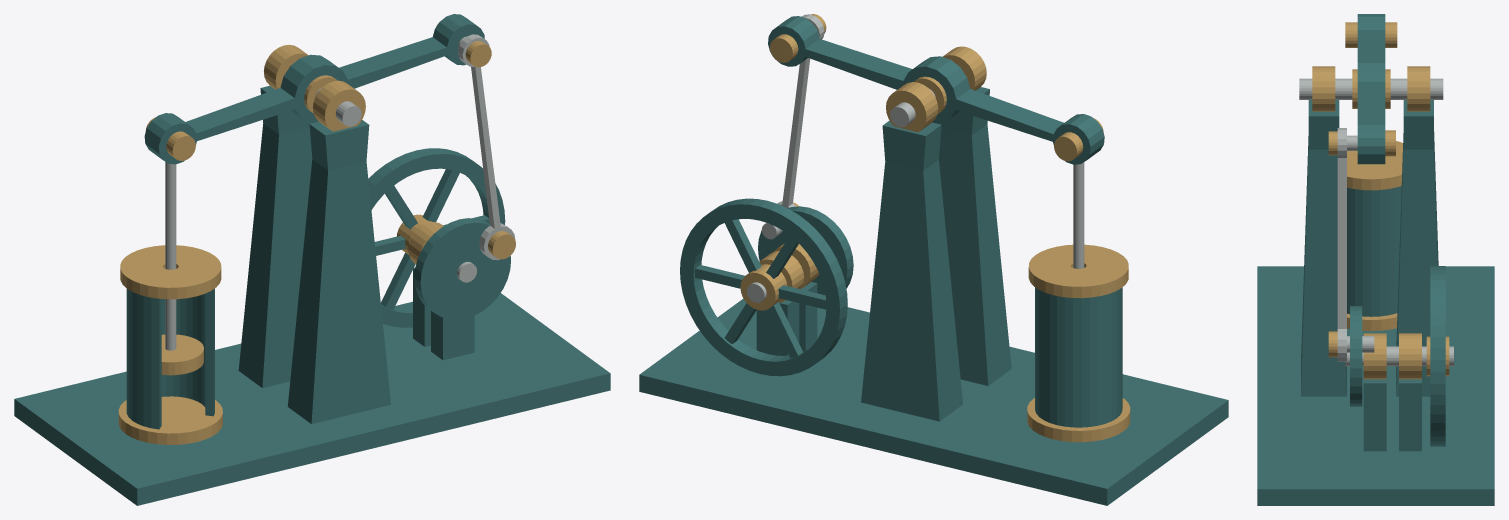
3 renders of one model, left to right at view 1: azimuth 30°, elevation 25°; view 2: azimuth 150°, elevation 25°; view 3: azimuth 270°, elevation 25°, orthographic. The views are drawn at different scales.
Parts seen in each view (by area): view 1: WholeGroundedMachineBed, FrontWholeTaperedBeamStandard, RearWholeTaperedBeamStandard, WholeThreeEyeElevatedWalkingBeam, WholeFrontCutawayVerticalCylinder, WholeCrankDisk, WholeTopAnnularRodGland, WholeOpenFlywheelRim, WholeCylinderBottomFootAndCover, WholeLongBeamToCrankConnectingRod, WholeVerticalPistonStem, FrontWholeCrankBearingPedestal (+8 smaller); view 2: WholeGroundedMachineBed, RearWholeTaperedBeamStandard, FrontWholeTaperedBeamStandard, WholeFrontCutawayVerticalCylinder, WholeOpenFlywheelRim, WholeThreeEyeElevatedWalkingBeam, WholeTopAnnularRodGland, WholeCrankDisk, WholeCylinderBottomFootAndCover, WholeLongBeamToCrankConnectingRod, RearWholeBeamBearing, RearWholeCrankBearingPedestal (+10 smaller); view 3: WholeGroundedMachineBed, FrontWholeTaperedBeamStandard, RearWholeTaperedBeamStandard, WholeFrontCutawayVerticalCylinder, WholeThreeEyeElevatedWalkingBeam, WholeOpenFlywheelRim, WholeLongBeamToCrankConnectingRod, WholeTopAnnularRodGland, FrontWholeCrankBearingPedestal, RearWholeCrankBearingPedestal, WholeHighBeamPivotSpindle, WholeCrankDisk (+10 smaller).
Boxes of the visible parts, x1=… form: WholeGroundedMachineBed: x1=14, y1=293, x2=610, y2=505; FrontWholeTaperedBeamStandard: x1=287, y1=120, x2=390, y2=423; RearWholeTaperedBeamStandard: x1=238, y1=85, x2=312, y2=387; WholeThreeEyeElevatedWalkingBeam: x1=144, y1=14, x2=484, y2=164; WholeFrontCutawayVerticalCylinder: x1=126, y1=288, x2=214, y2=429; WholeCrankDisk: x1=414, y1=218, x2=510, y2=319; WholeTopAnnularRodGland: x1=120, y1=245, x2=221, y2=299; WholeOpenFlywheelRim: x1=368, y1=148, x2=505, y2=327; WholeCylinderBottomFootAndCover: x1=118, y1=396, x2=222, y2=444; WholeLongBeamToCrankConnectingRod: x1=458, y1=34, x2=515, y2=260; WholeVerticalPistonStem: x1=165, y1=162, x2=176, y2=350; FrontWholeCrankBearingPedestal: x1=431, y1=311, x2=474, y2=360; WholeGroundedMachineBed: x1=639, y1=298, x2=1228, y2=505; RearWholeTaperedBeamStandard: x1=861, y1=120, x2=962, y2=421; FrontWholeTaperedBeamStandard: x1=939, y1=87, x2=1011, y2=385; WholeFrontCutawayVerticalCylinder: x1=1035, y1=287, x2=1122, y2=427; WholeOpenFlywheelRim: x1=680, y1=198, x2=847, y2=376; WholeThreeEyeElevatedWalkingBeam: x1=768, y1=16, x2=1104, y2=164; WholeTopAnnularRodGland: x1=1028, y1=244, x2=1128, y2=298; WholeCrankDisk: x1=758, y1=206, x2=853, y2=294; WholeCylinderBottomFootAndCover: x1=1027, y1=398, x2=1130, y2=442; WholeLongBeamToCrankConnectingRod: x1=777, y1=14, x2=824, y2=208; RearWholeBeamBearing: x1=886, y1=82, x2=938, y2=132; RearWholeCrankBearingPedestal: x1=756, y1=300, x2=799, y2=355; WholeGroundedMachineBed: x1=1257, y1=266, x2=1494, y2=505; FrontWholeTaperedBeamStandard: x1=1301, y1=100, x2=1346, y2=396; RearWholeTaperedBeamStandard: x1=1396, y1=100, x2=1438, y2=396; WholeFrontCutawayVerticalCylinder: x1=1347, y1=186, x2=1401, y2=316; WholeThreeEyeElevatedWalkingBeam: x1=1357, y1=14, x2=1385, y2=164; WholeOpenFlywheelRim: x1=1430, y1=266, x2=1445, y2=446; WholeLongBeamToCrankConnectingRod: x1=1337, y1=128, x2=1346, y2=361; WholeTopAnnularRodGland: x1=1347, y1=141, x2=1402, y2=190; FrontWholeCrankBearingPedestal: x1=1363, y1=379, x2=1386, y2=451; RearWholeCrankBearingPedestal: x1=1399, y1=379, x2=1421, y2=451; WholeHighBeamPivotSpindle: x1=1299, y1=78, x2=1443, y2=99; WholeCrankDisk: x1=1350, y1=306, x2=1362, y2=406.
Bounding box in the file's own units: 3.45 × 2.44 × 1.55.
